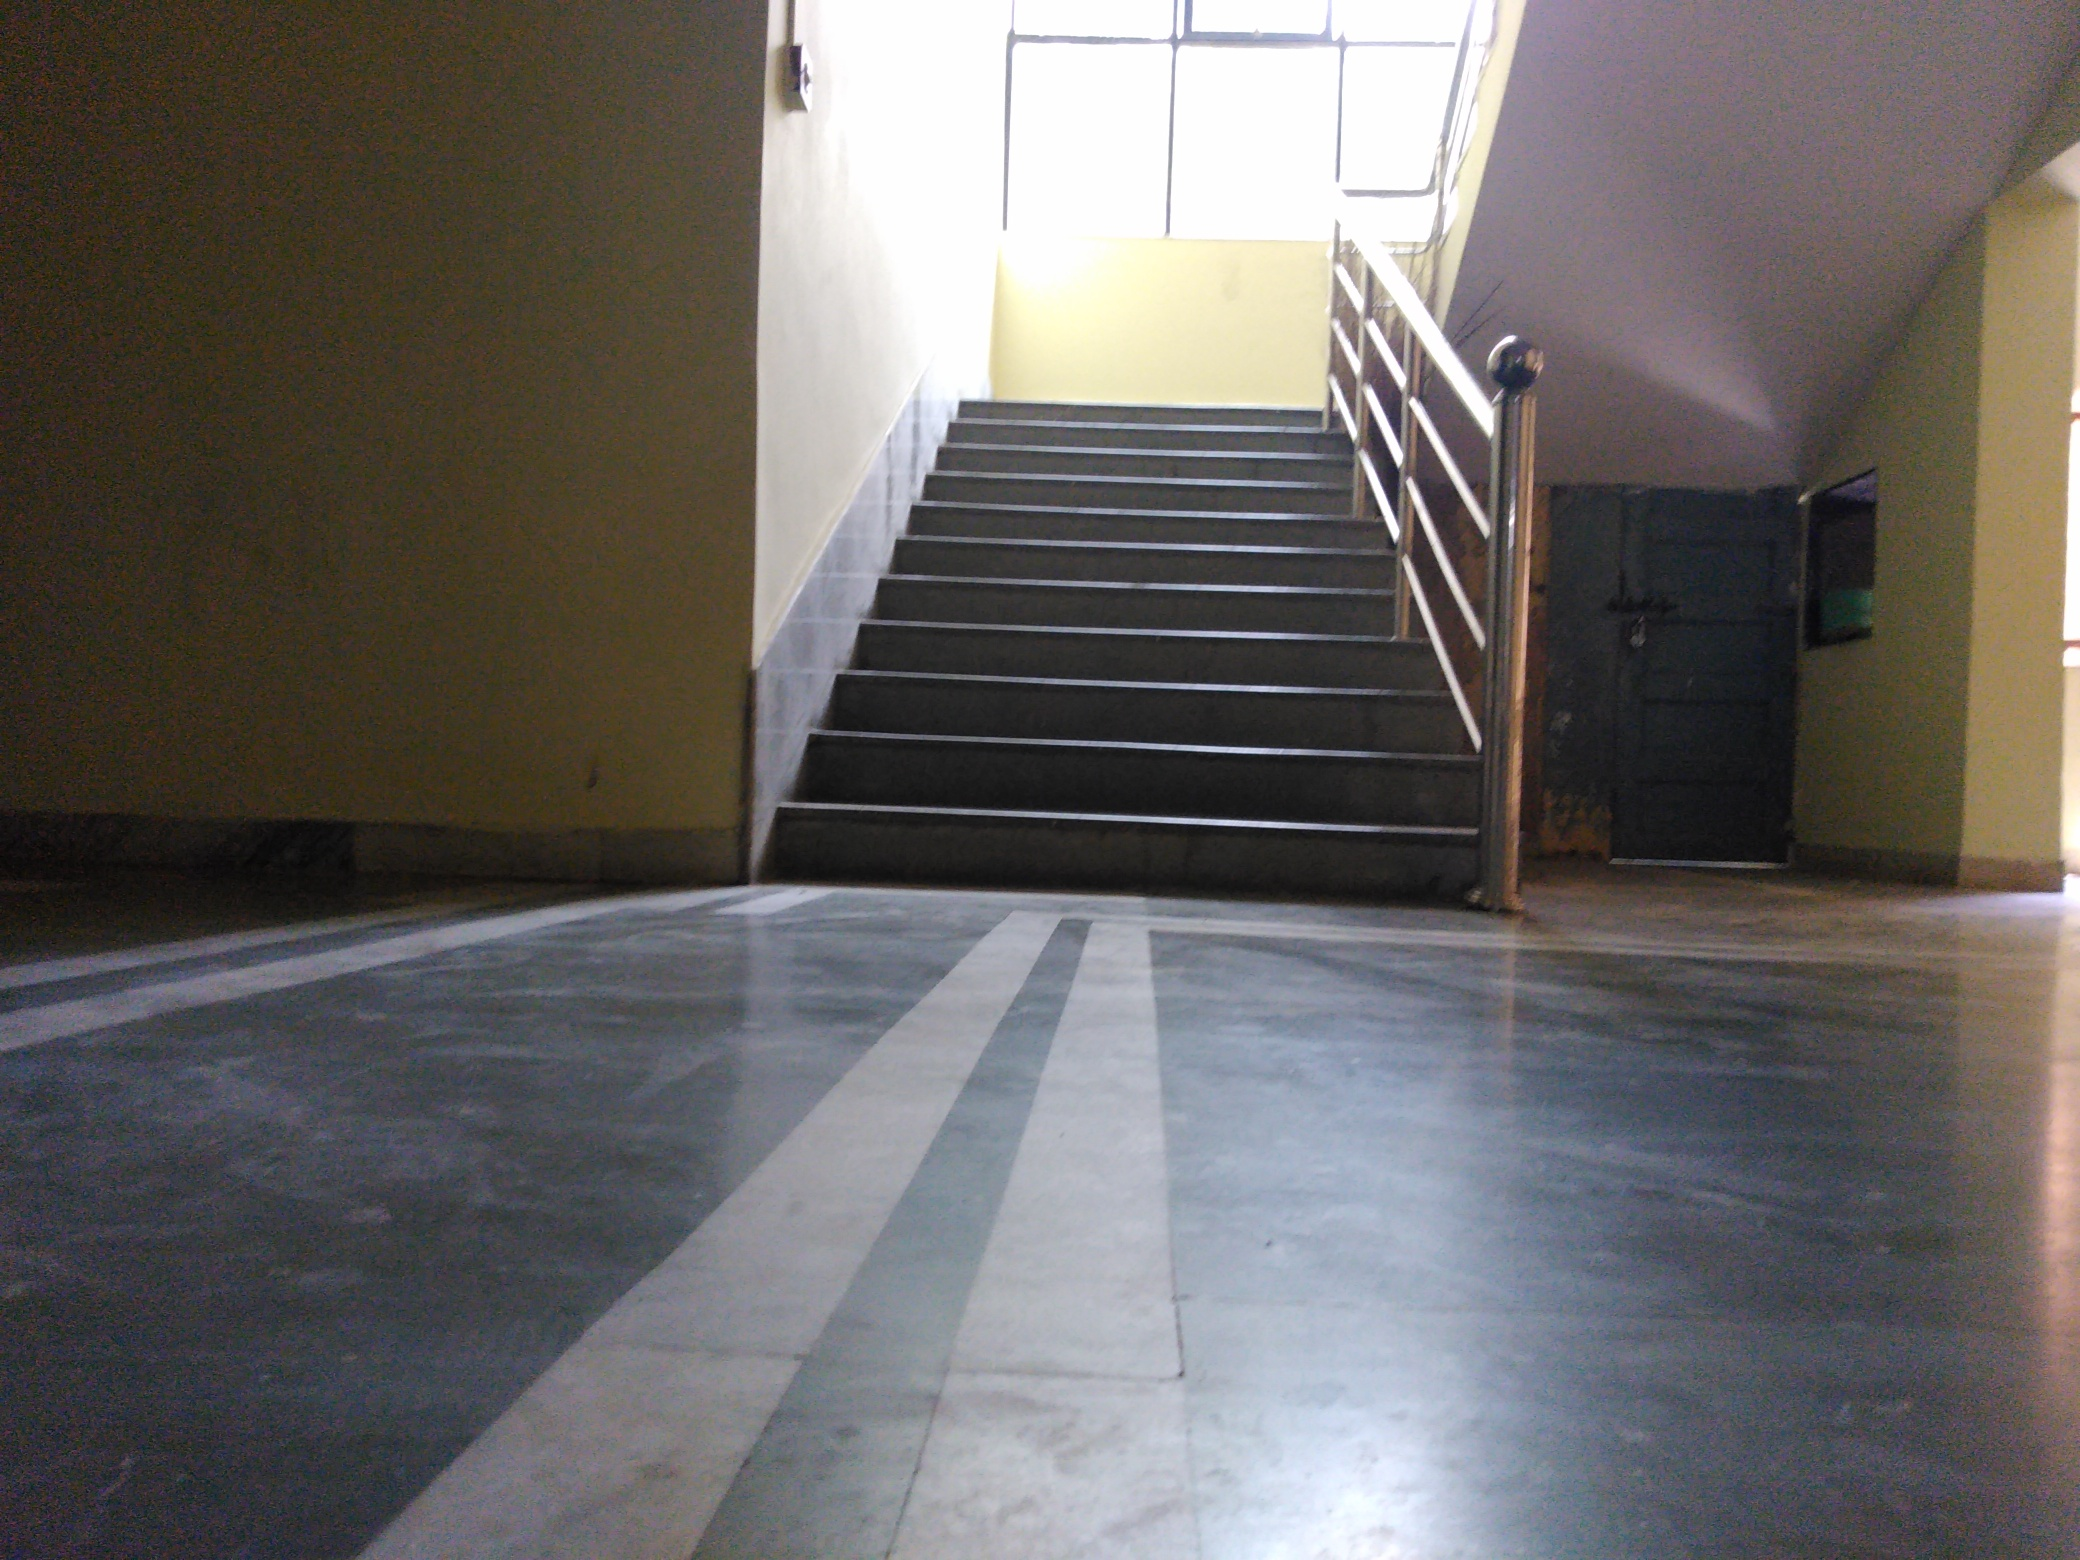stairs_up: (793, 393, 1485, 895)
